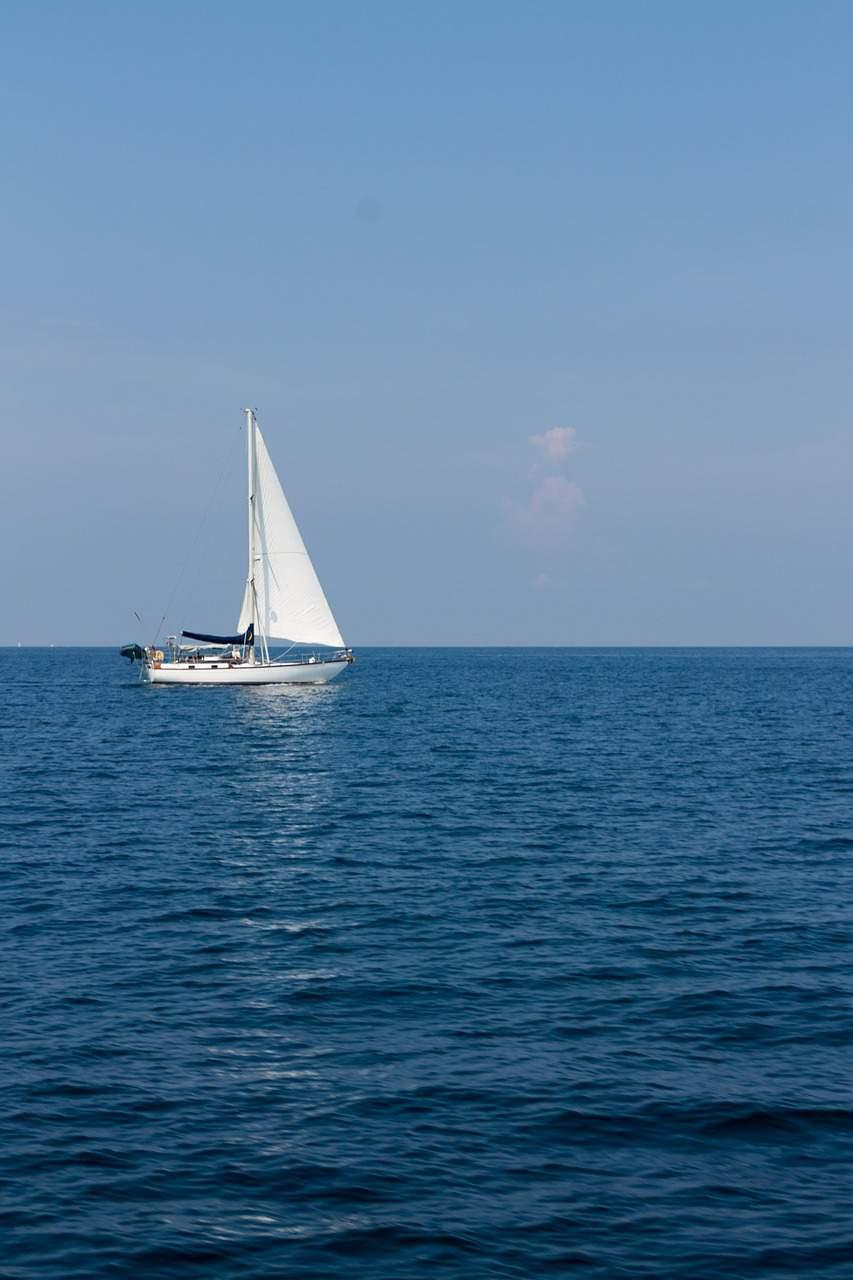Ship: (144, 405, 350, 690)
